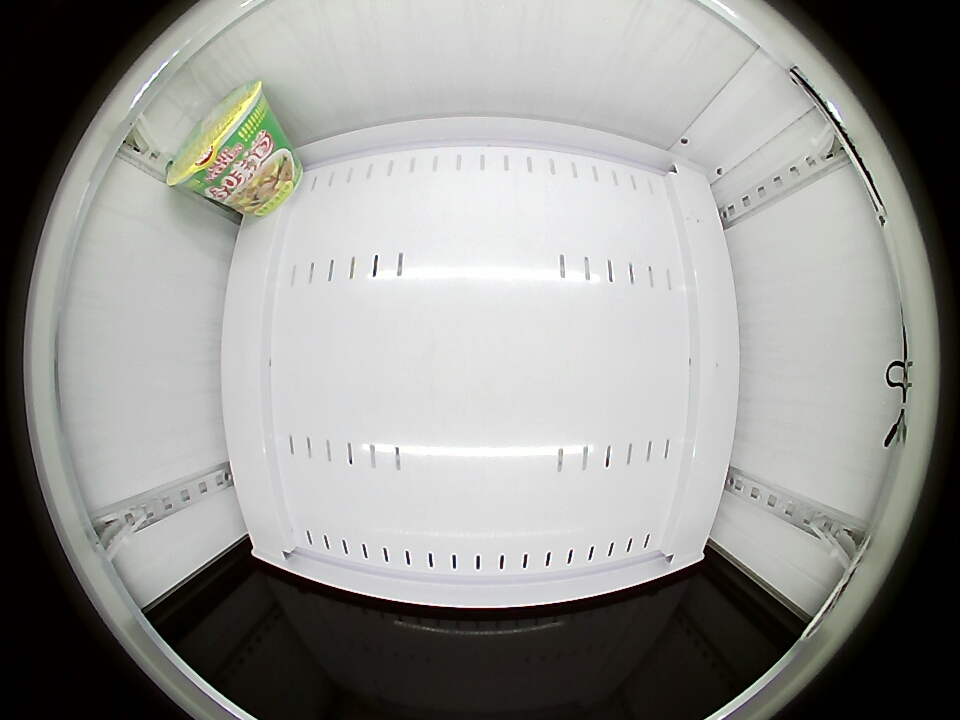heweidao2: (167, 80, 272, 198)
